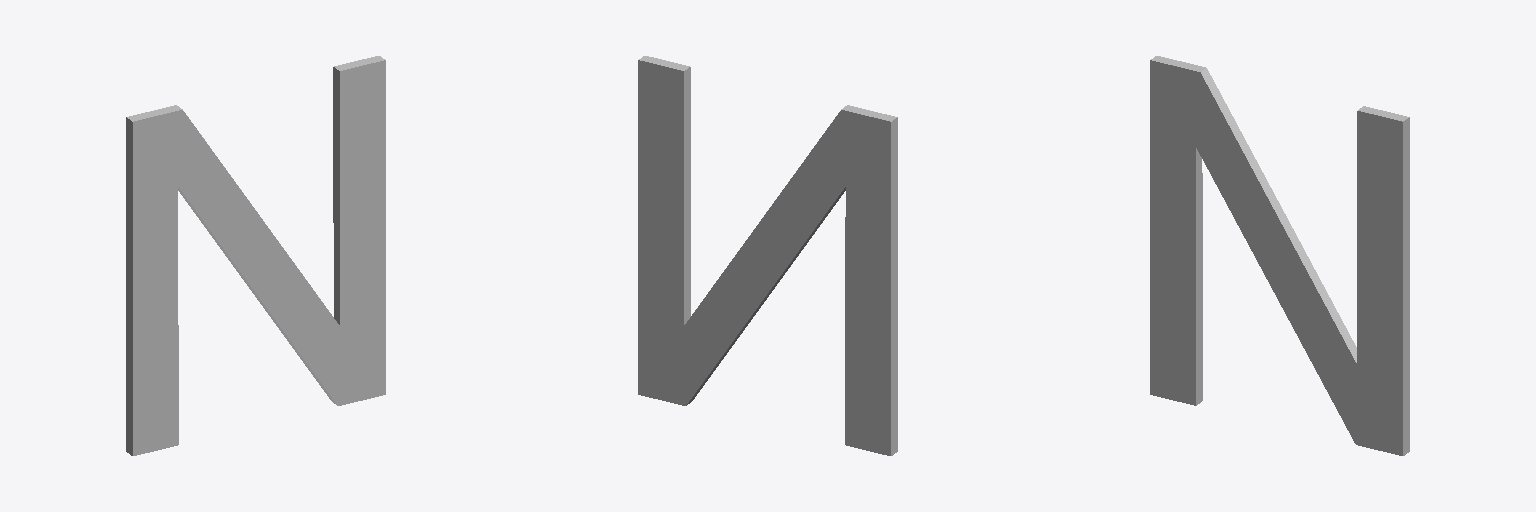
The model's file is original-10.obj.
3 views of the same model, side by side, from view 1: azimuth 30°, elevation 25°; view 2: azimuth 150°, elevation 25°; view 3: azimuth 330°, elevation 25° (orthographic).
Size of the model in its own units: 0.0217 by 0.0274 by 0.0009.